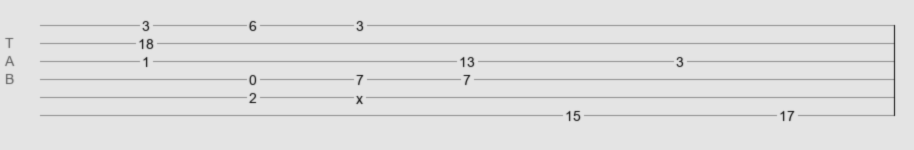0: (249, 72, 257, 82)
1: (142, 54, 150, 64)
13: (459, 54, 475, 64)
15: (565, 108, 581, 118)
17: (779, 108, 795, 118)
18: (138, 36, 154, 46)
2: (249, 90, 257, 100)
3: (142, 18, 150, 28), (356, 18, 364, 28), (676, 54, 684, 64)
6: (249, 18, 257, 28)
7: (356, 72, 364, 82), (463, 72, 471, 82)
x: (356, 91, 363, 99)
